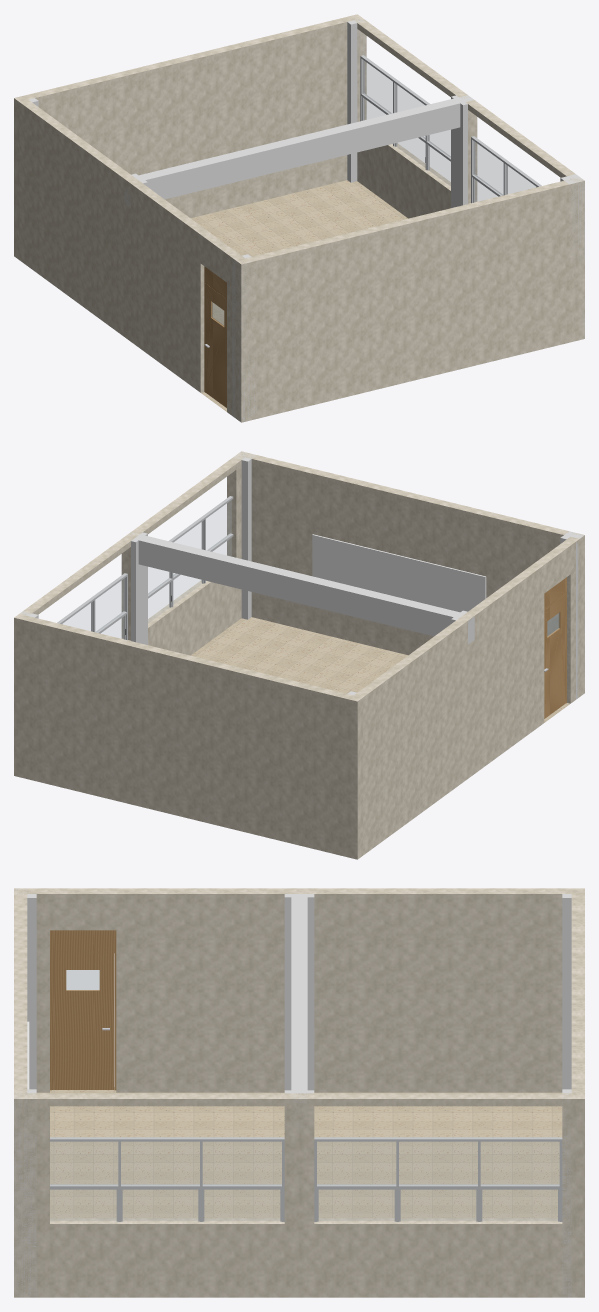
The model's file is salon.glb.
3 views of the same model, one above another, from view 1: azimuth 30°, elevation 25°; view 2: azimuth 150°, elevation 25°; view 3: azimuth 270°, elevation 25° (orthographic). The views are drawn at different scales.
Parts seen in each view (by area): view 1: Aplanado hueso arrugado, Blanco estructural, Loseta beige con piedritas, Cristal transparente, Madera roble, Aluminio natural; view 2: Aplanado hueso arrugado, Blanco estructural, Loseta beige con piedritas, Blanco brillante pizarron, Cristal transparente, Madera roble, Aluminio natural; view 3: Aplanado hueso arrugado, Loseta beige con piedritas, Cristal transparente, Blanco estructural, Madera roble, Aluminio natural, Cristal puerta.
Boxes of the visible parts, box(x1,y1,x2,y2) form: Aplanado hueso arrugado: box(14, 14, 584, 422); Blanco estructural: box(29, 19, 584, 421); Loseta beige con piedritas: box(191, 180, 407, 411); Cristal transparente: box(363, 60, 535, 201); Madera roble: box(204, 266, 226, 407); Aluminio natural: box(360, 55, 541, 203); Aplanado hueso arrugado: box(14, 451, 584, 859); Blanco estructural: box(20, 452, 584, 699); Loseta beige con piedritas: box(191, 617, 570, 722); Blanco brillante pizarron: box(312, 534, 486, 612); Cristal transparente: box(63, 500, 231, 638); Madera roble: box(544, 577, 566, 718); Aluminio natural: box(57, 496, 233, 640); Aplanado hueso arrugado: box(14, 888, 584, 1297); Loseta beige con piedritas: box(37, 1087, 562, 1218); Cristal transparente: box(50, 1142, 559, 1220); Blanco estructural: box(14, 888, 571, 1297); Madera roble: box(50, 930, 116, 1090); Aluminio natural: box(50, 1137, 562, 1221); Cristal puerta: box(66, 970, 99, 990).
Bounding box in the file's own units: 7.5 × 3.3 × 8.6.
Materials: 10 (3 with a texture image).
